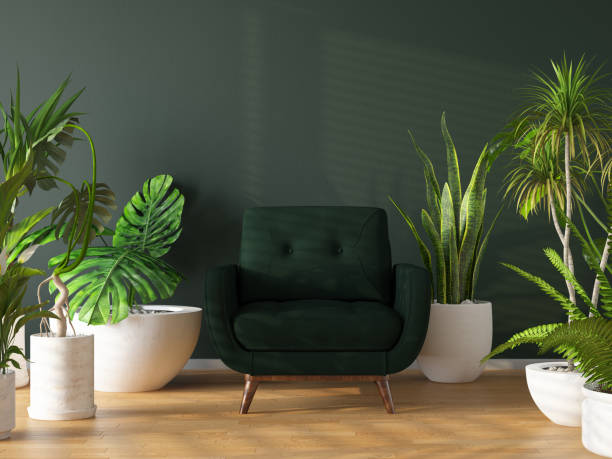chair: (201, 201, 433, 419)
large plant: (510, 51, 612, 426), (391, 107, 509, 386), (55, 172, 202, 393), (25, 125, 95, 426), (0, 103, 63, 434), (575, 239, 612, 459)
